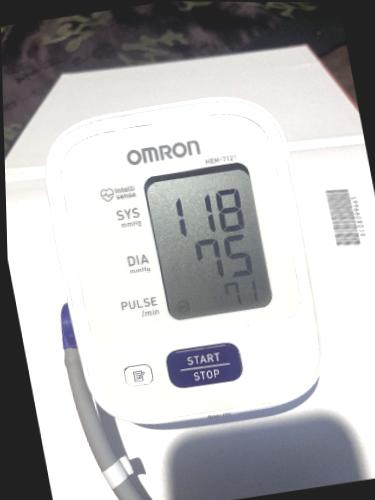bpm: (139, 153, 277, 329)
